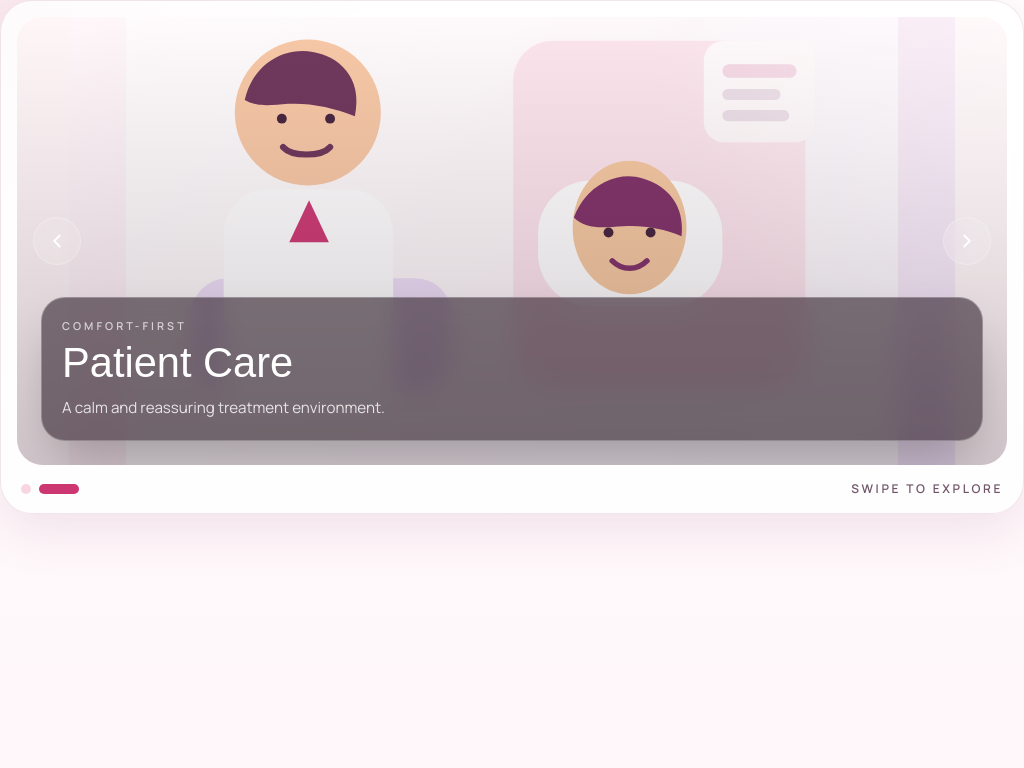
HeroSlideshow › auto-rotates slides and supports manual navigation
Expected: the text "Patient Care" is shown, [62, 339, 293, 386]
Step 1. Click the button named "show previous slide" → (57,241), box [33, 217, 81, 265]
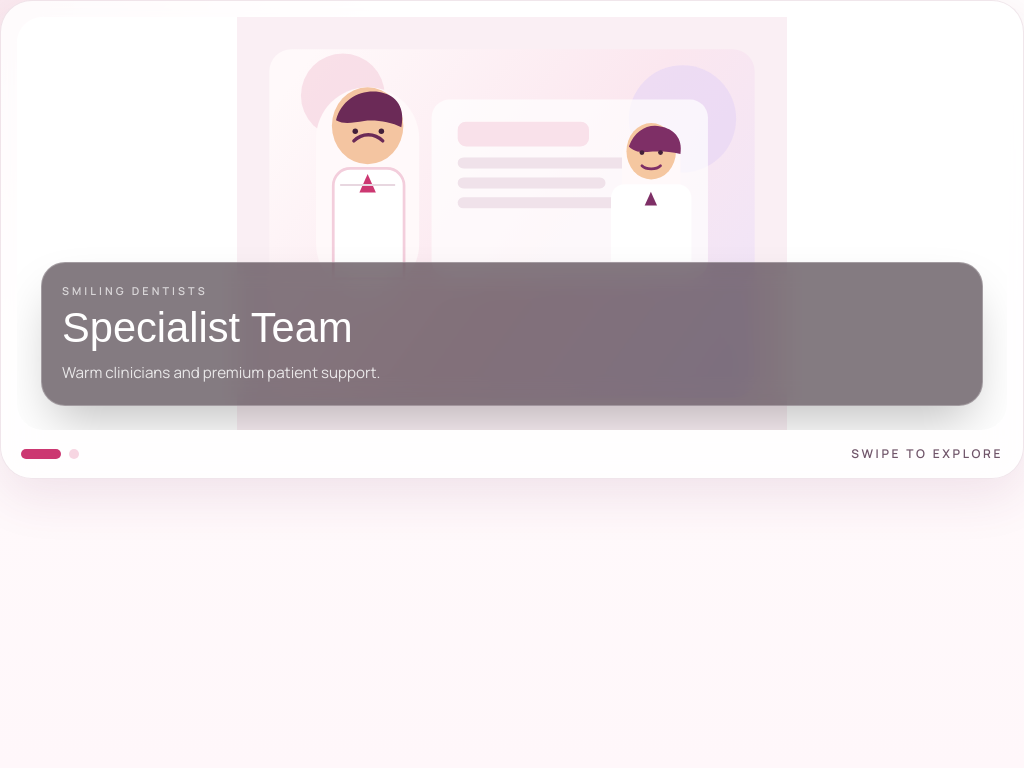
Expected: the text "Specialist Team" is shown, [62, 304, 352, 351]
